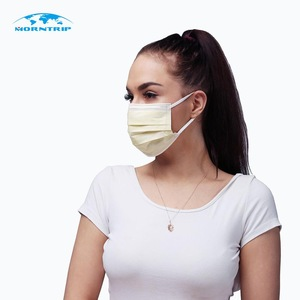mask: (127, 102, 179, 157)
